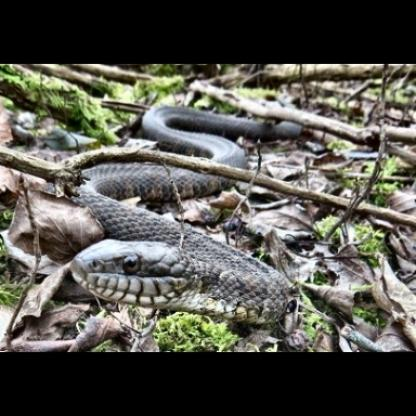Snake: (69, 93, 293, 324)
